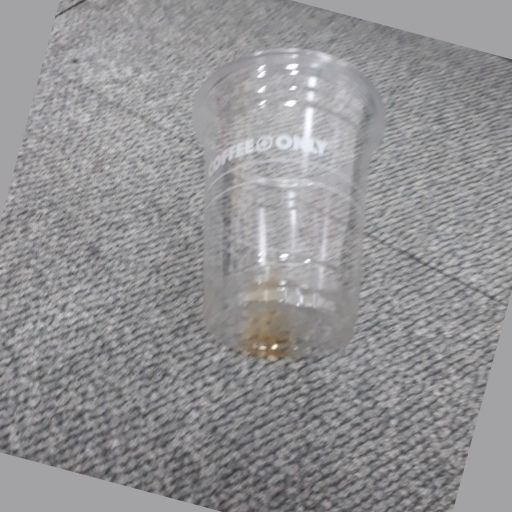Plastic_2: (187, 43, 386, 357)
